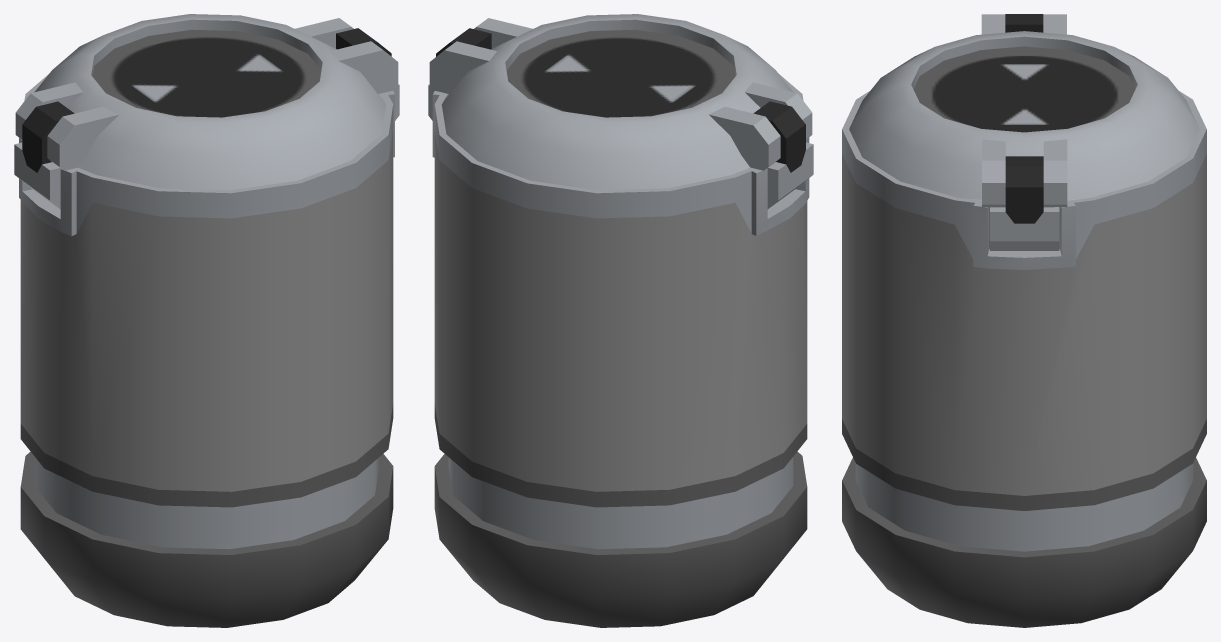
The model's file is Prop_nengliangtong.FBX.
3 renders of one model, left to right at view 1: azimuth 30°, elevation 25°; view 2: azimuth 150°, elevation 25°; view 3: azimuth 270°, elevation 25°, orthographic. The views are drawn at different scales.
Parts seen in each view (by area): view 1: Prop_nengliangtong01, Prop_nengliangtong02; view 2: Prop_nengliangtong01, Prop_nengliangtong02; view 3: Prop_nengliangtong01, Prop_nengliangtong02.
Part boxes in pixels (bbox=[...]): Prop_nengliangtong01: bbox=[14, 14, 399, 627]; Prop_nengliangtong02: bbox=[20, 130, 393, 491]; Prop_nengliangtong01: bbox=[428, 14, 813, 627]; Prop_nengliangtong02: bbox=[434, 130, 807, 491]; Prop_nengliangtong01: bbox=[842, 14, 1206, 627]; Prop_nengliangtong02: bbox=[842, 154, 1206, 495].
Bounding box in the file's own units: 2.41 × 3.26 × 2.24.
2 materials, 1 textured.
